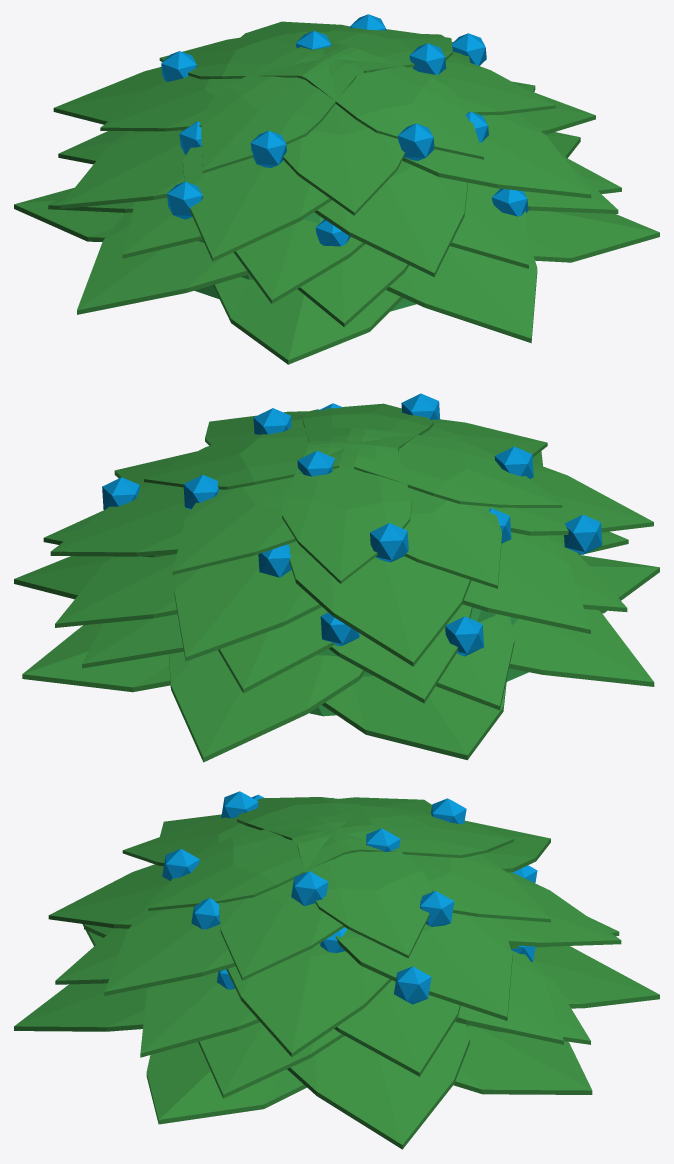
The model's file is BushLBlueFruits.fbx.
3 renders of one model, top to bottom at view 1: azimuth 30°, elevation 25°; view 2: azimuth 150°, elevation 25°; view 3: azimuth 270°, elevation 25°, orthographic. The views are drawn at different scales.
Parts seen in each view (by area): view 1: BushLBlueFruits; view 2: BushLBlueFruits; view 3: BushLBlueFruits.
Boxes of the visible parts, box(x1,y1,x2,y2) form: BushLBlueFruits: box(14, 14, 659, 364); BushLBlueFruits: box(14, 393, 659, 762); BushLBlueFruits: box(14, 791, 659, 1149).
Size of the model in its own units: 1000 by 320 by 1007.
